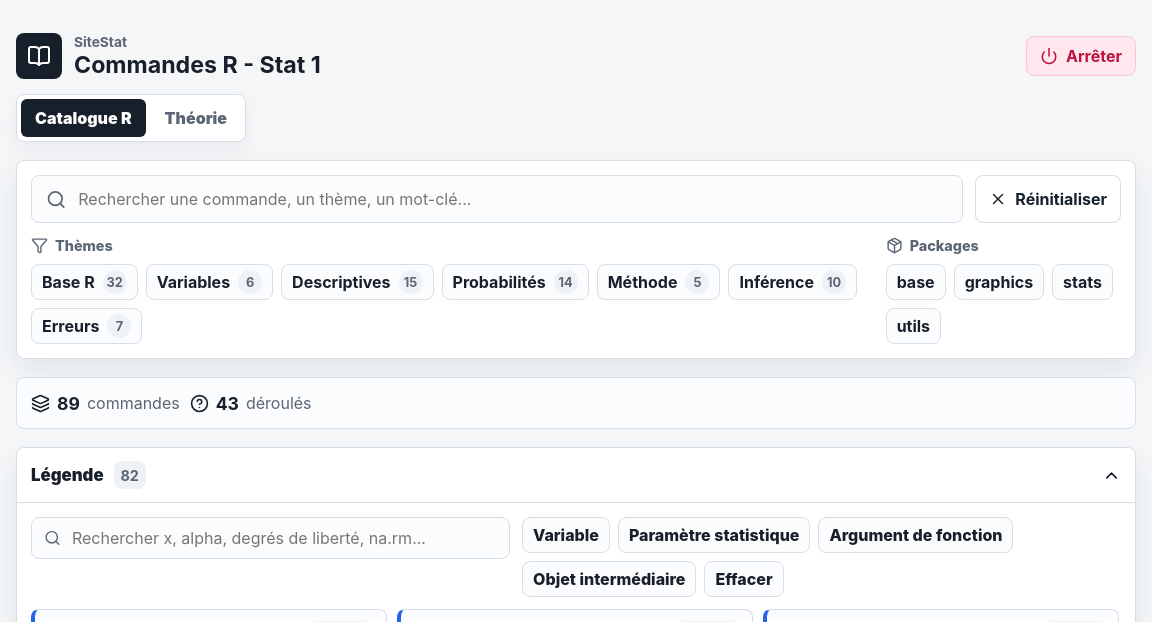
Scenario: App › filtre la théorie par thème
The image size is (1152, 622).
Click the button "Théorie" at (196, 118), box [151,99,241,137]
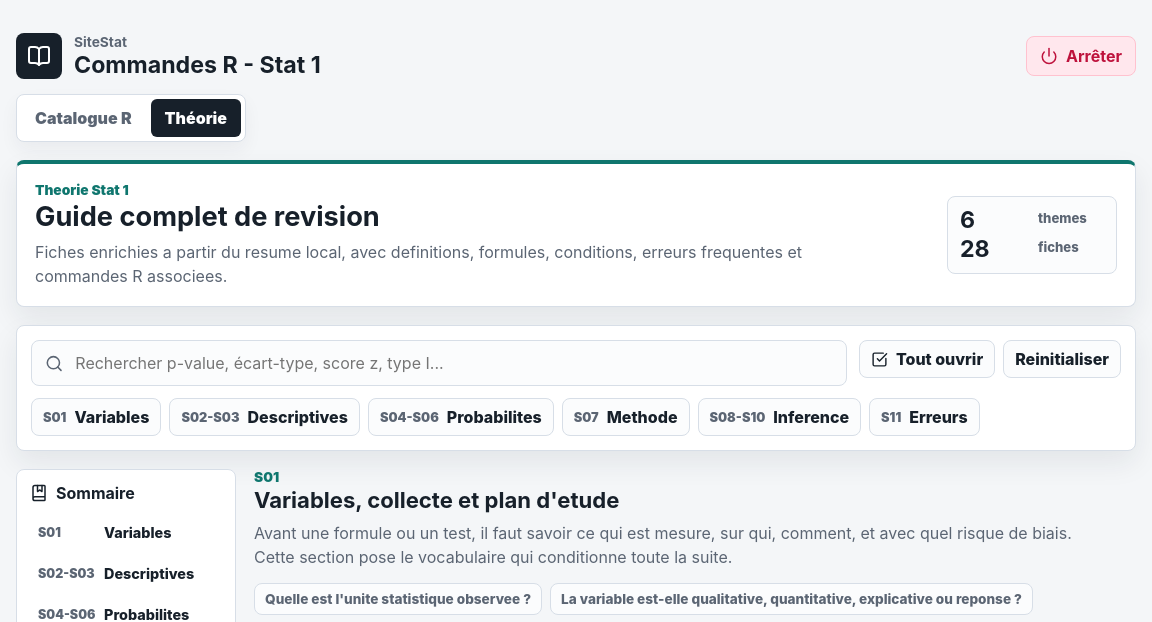
Click the button "S11 Erreurs" at (924, 417), box [869,398,980,436]
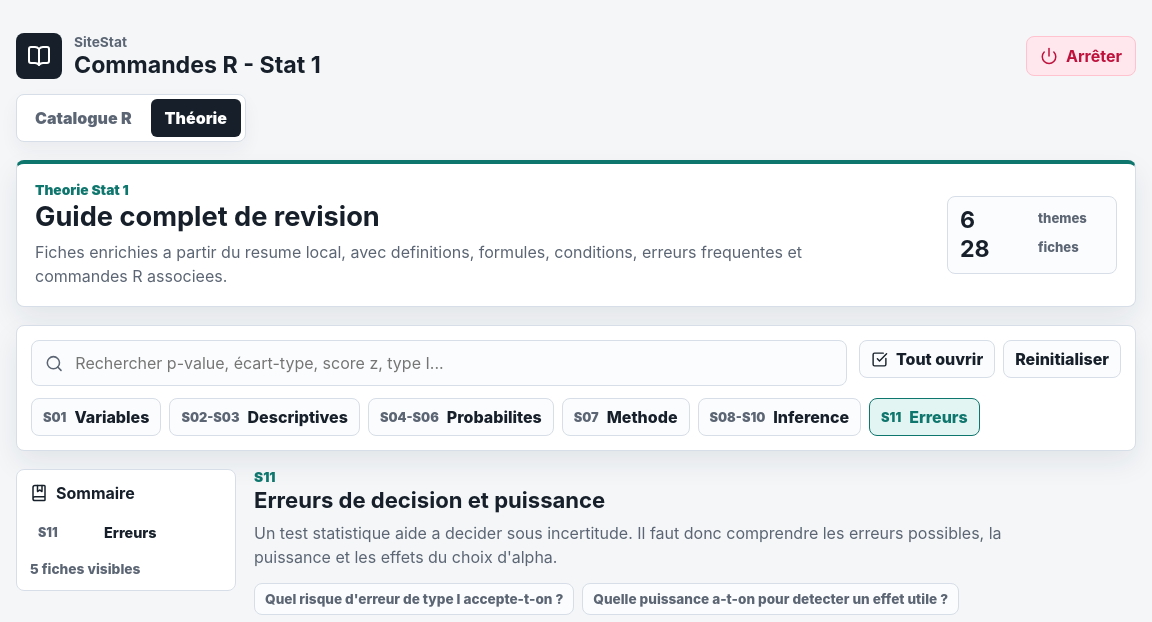
Click the button "Tout ouvrir" at (927, 359), box [859,340,995,378]
(page scrolled)
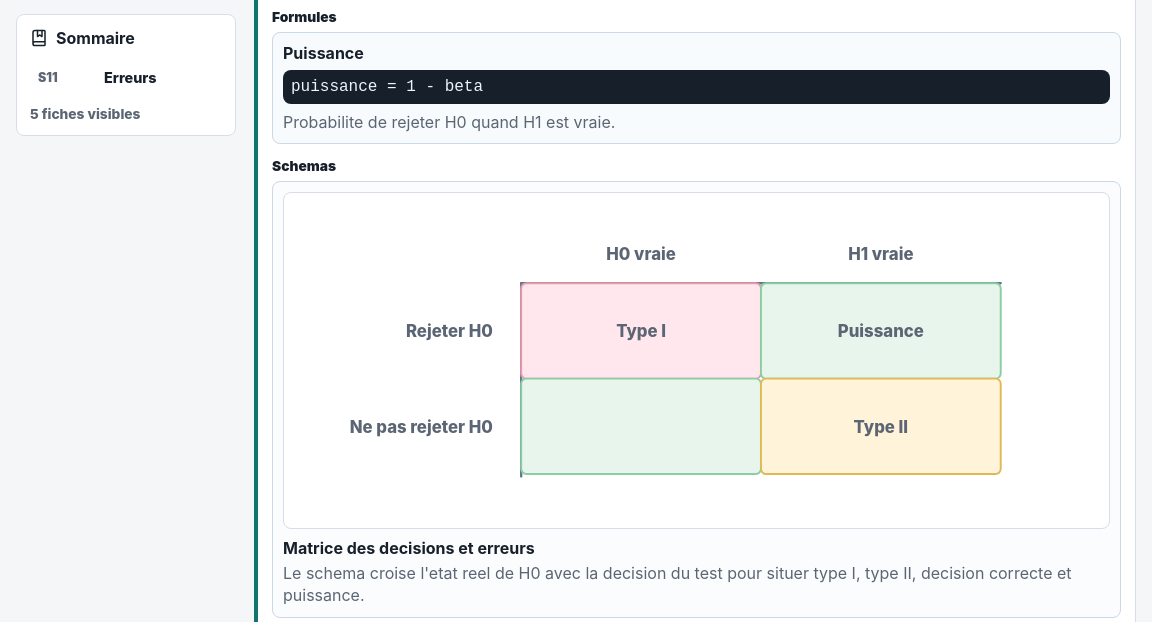
Result: the picture named "Matrice des decisions" is shown at [284,193,1109,528]
